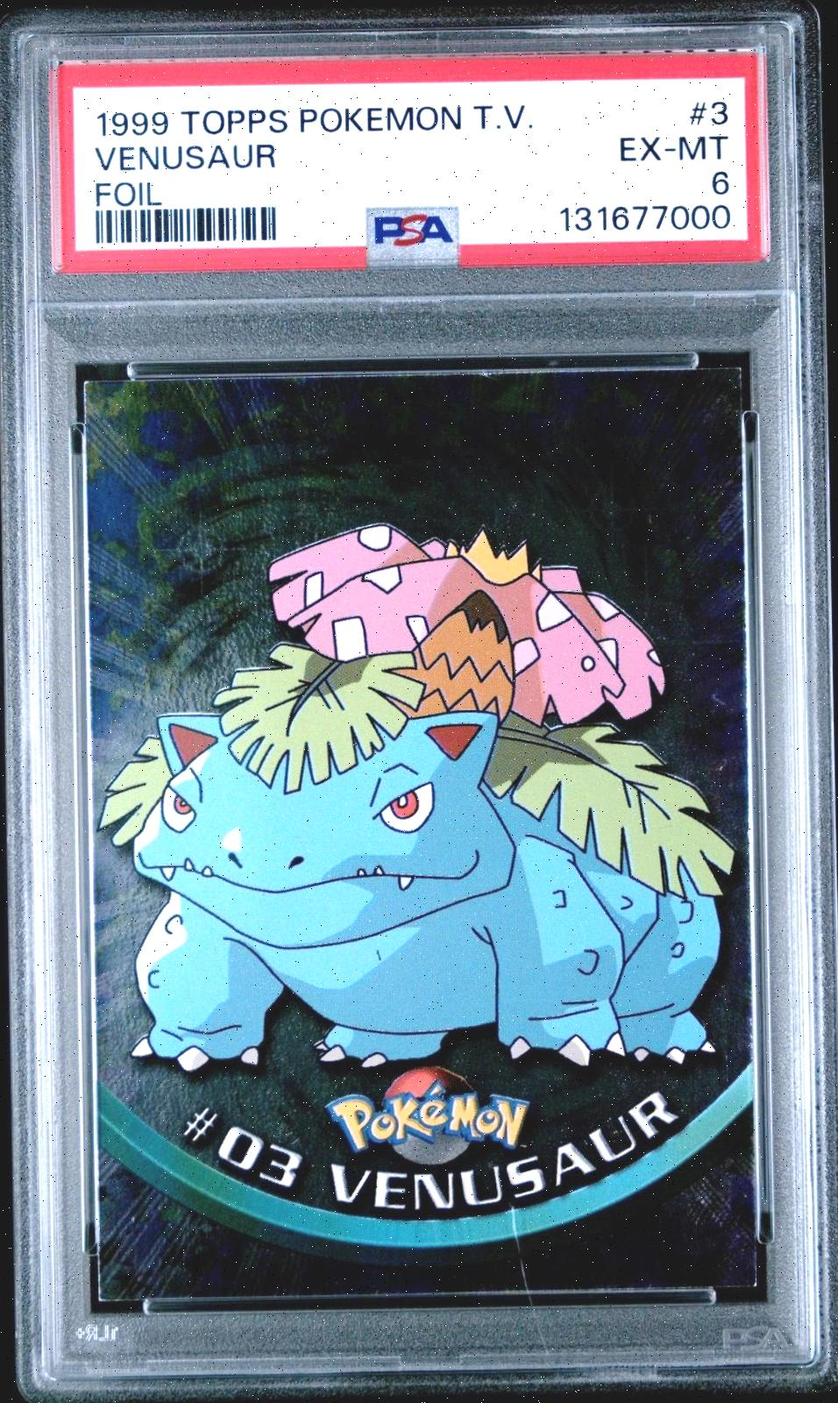card-2UtV: (83, 367, 757, 1302)
